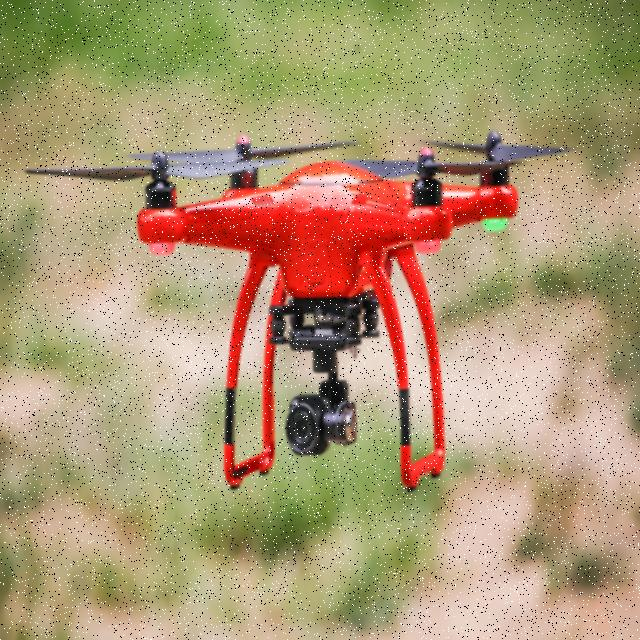UAV: (136, 128, 519, 494)
